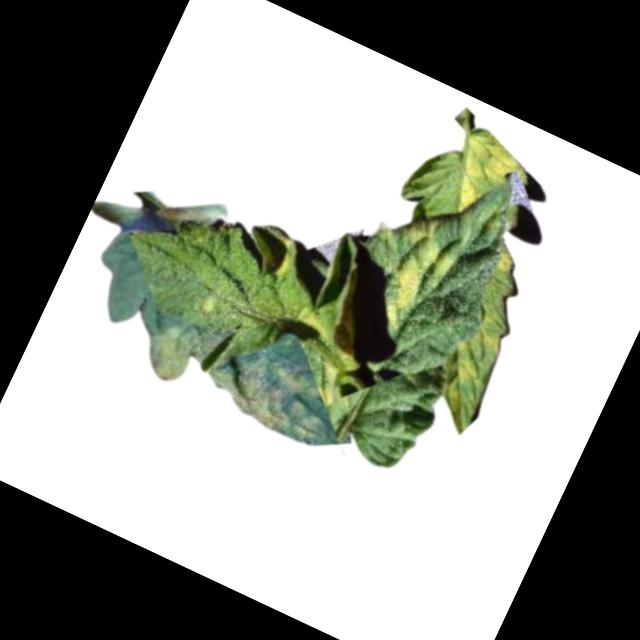Leaf_Mold: (130, 295, 345, 453), (421, 282, 531, 438), (360, 208, 468, 345), (268, 299, 371, 406), (440, 122, 529, 226), (232, 216, 303, 290), (491, 244, 521, 277)
